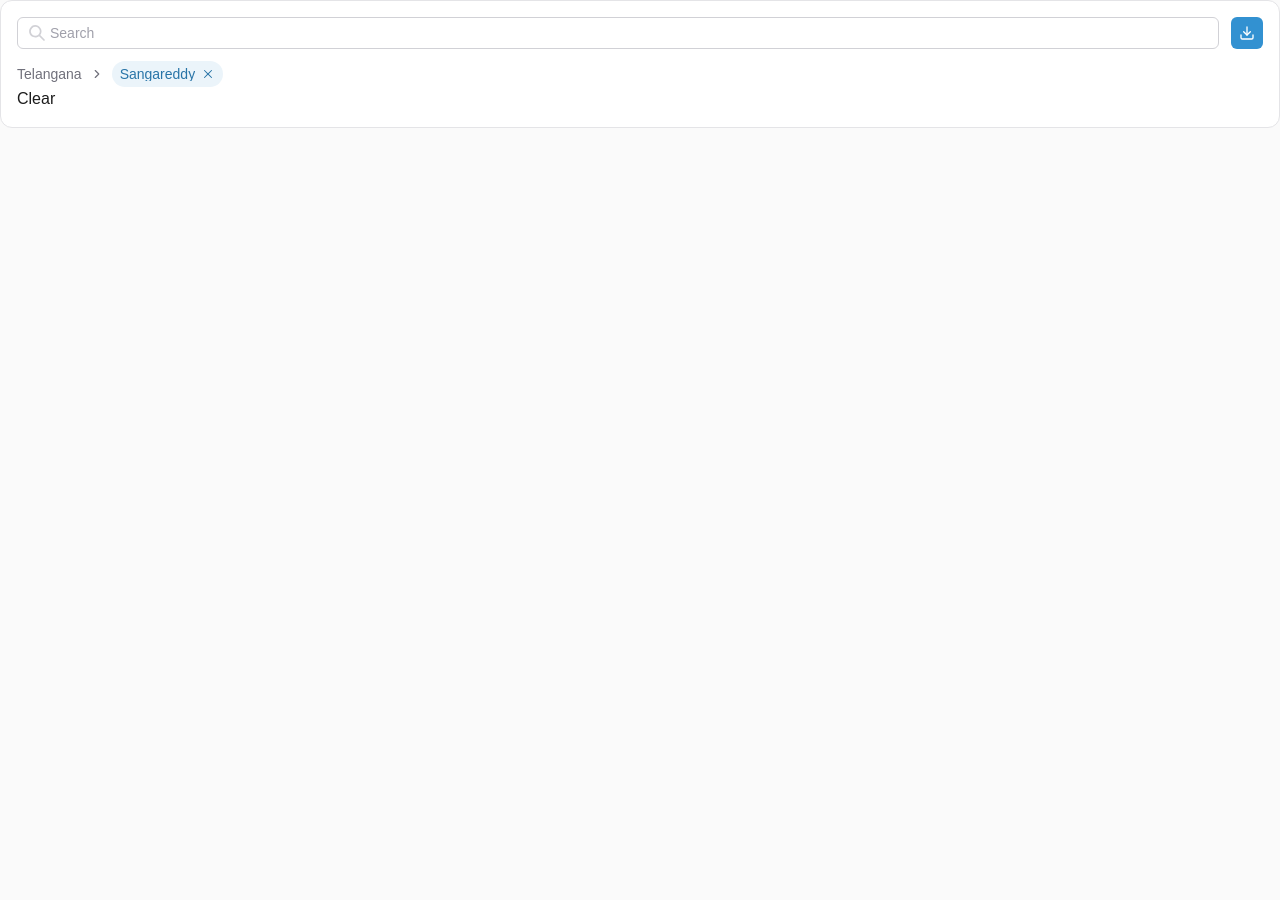
SearchLayout › renders closed trail slot only while the search panel is closed
Expected: the button "Clear" is shown, [17,87,55,111]
Focus the field at (618,33), box [17,17,1219,49]
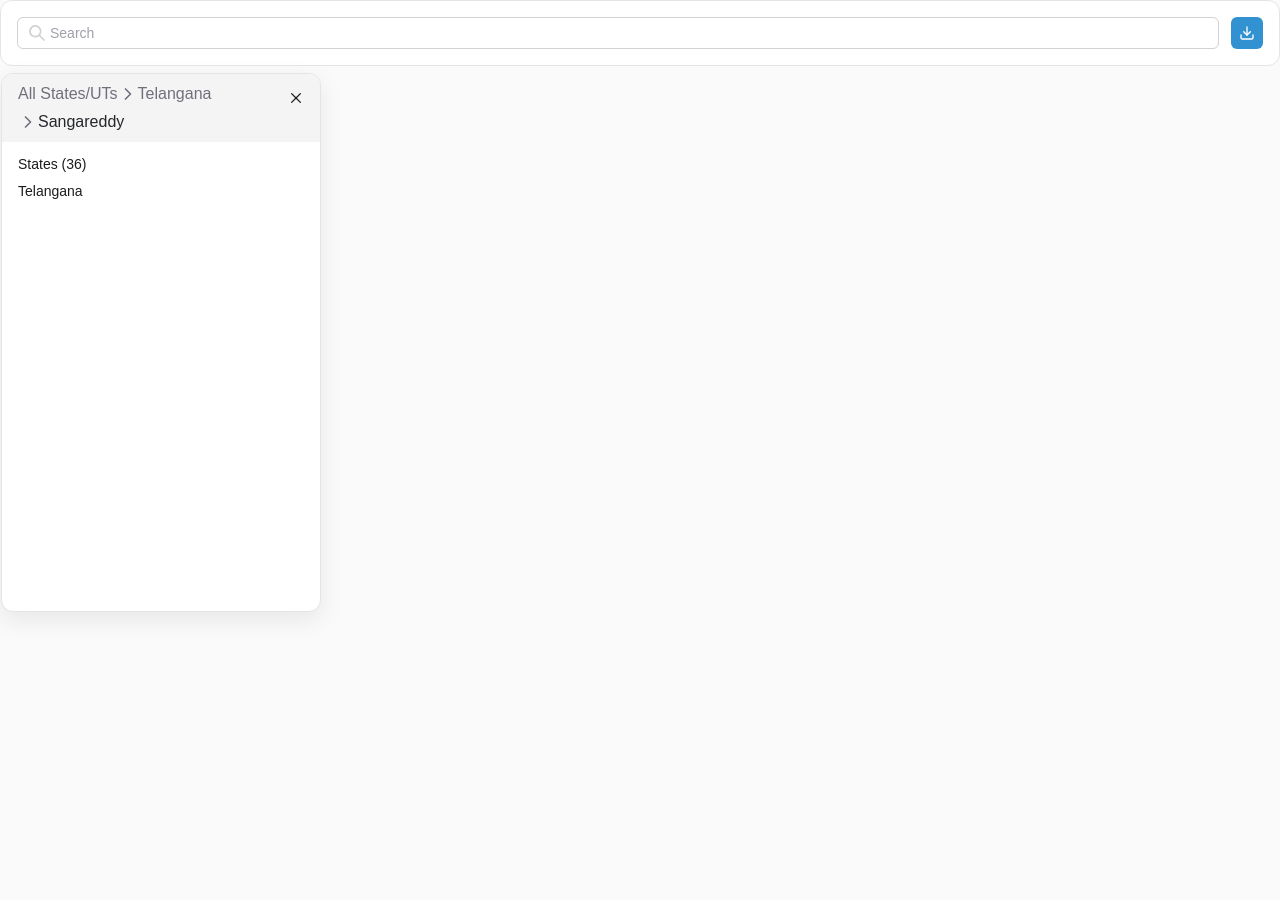
Now the button "Clear" is gone
Click the button with test id "search-dropdown-close" at (296,98), box [280,82,312,114]
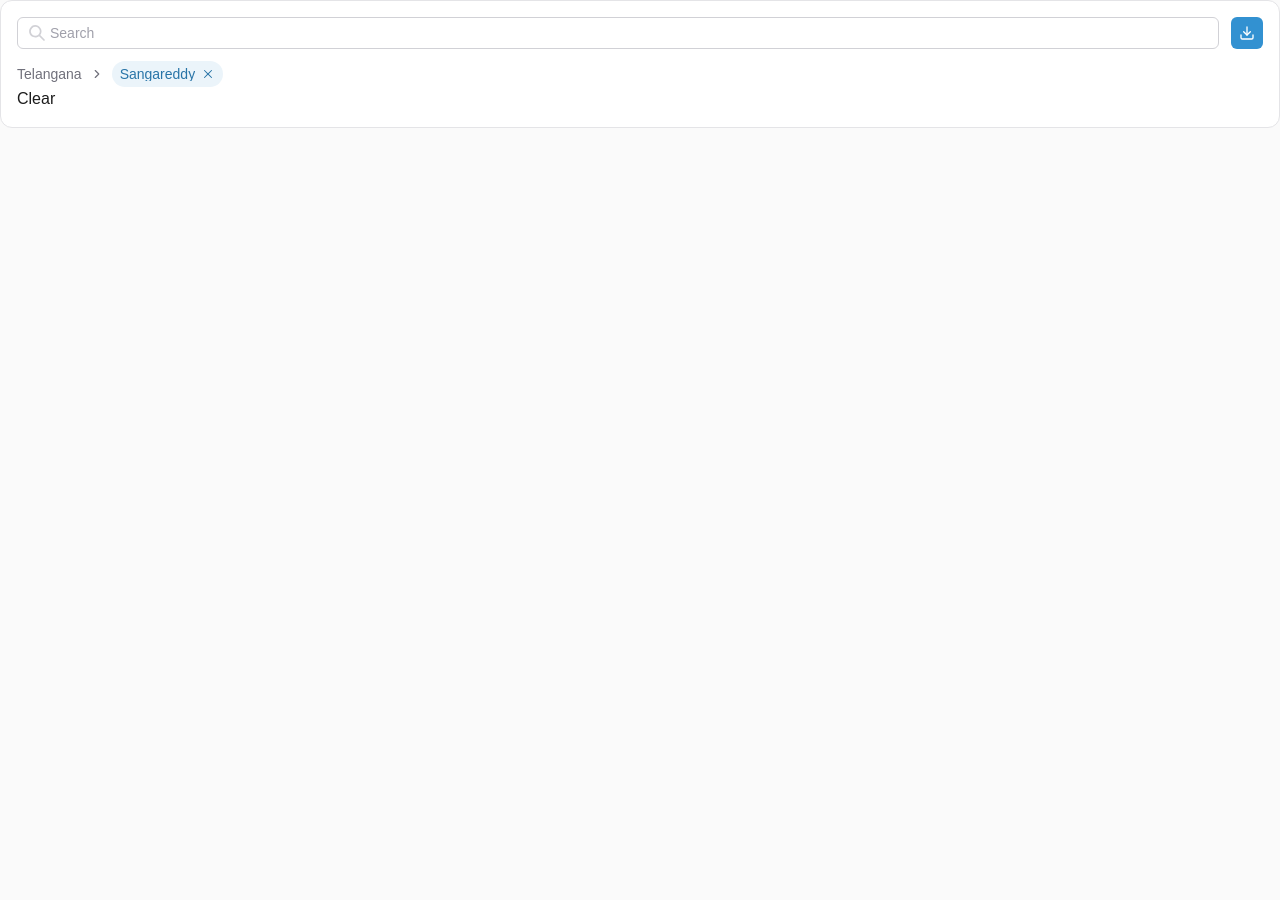
Now the button "Clear" is shown, box [17,87,55,111]
